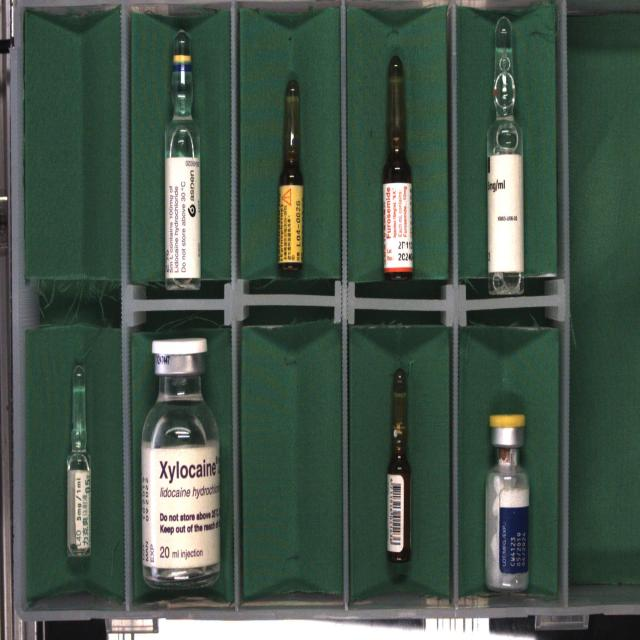Vials: (141, 338, 220, 589), (486, 414, 529, 590)
